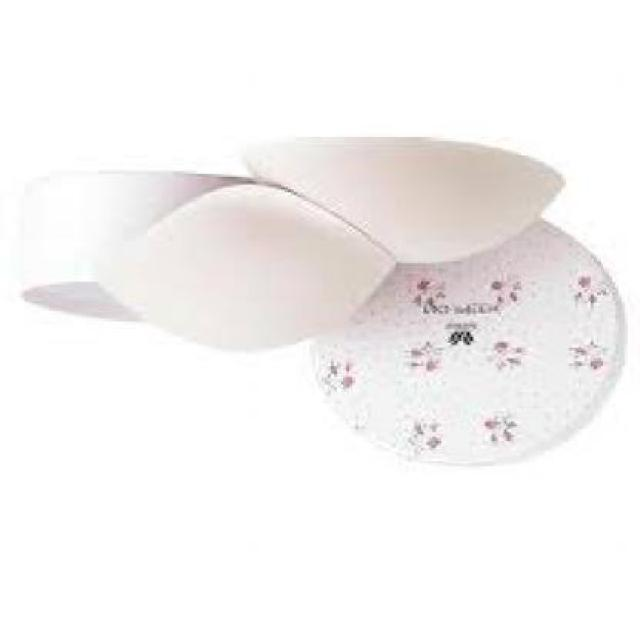PAPER: (309, 222, 625, 469), (87, 190, 396, 353), (239, 140, 566, 268), (16, 179, 250, 321)
